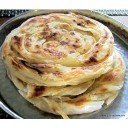parota: (7, 15, 112, 81), (9, 76, 121, 113)
